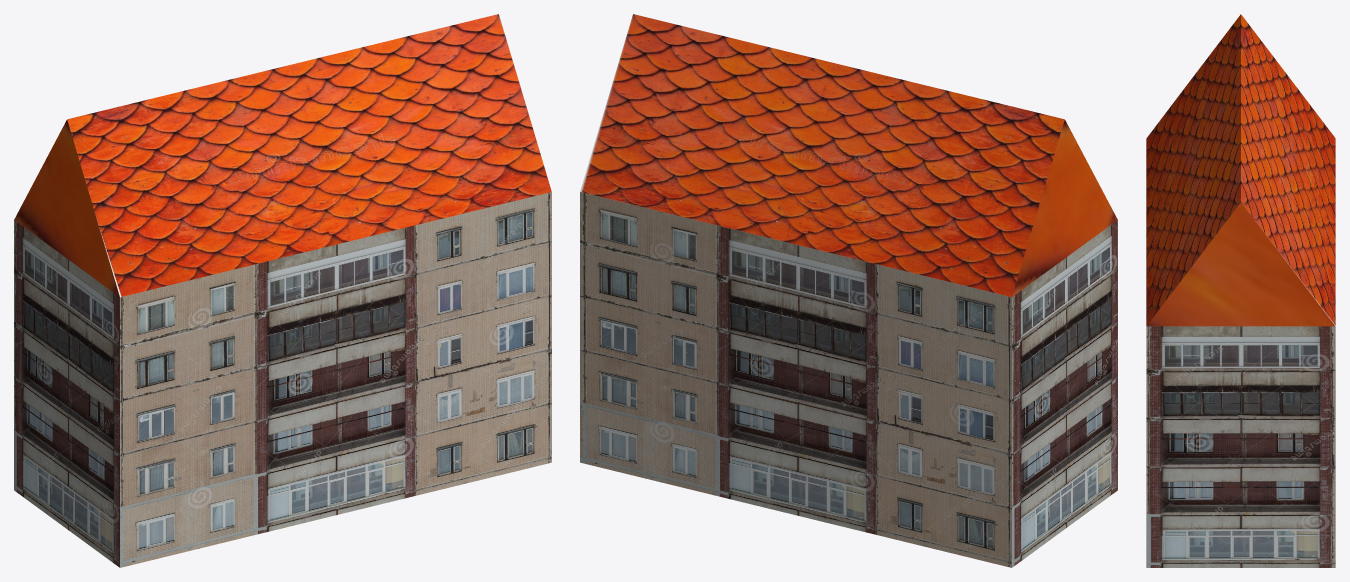
The model's file is Home.fbx.
3 views of the same model, side by side, from view 1: azimuth 30°, elevation 25°; view 2: azimuth 150°, elevation 25°; view 3: azimuth 270°, elevation 25° (orthographic). The views are drawn at different scales.
Parts seen in each view (by area): view 1: Cube; view 2: Cube; view 3: Cube.
Boxes of the visible parts, bbox=[...] form: Cube: bbox=[14, 14, 551, 567]; Cube: bbox=[580, 14, 1117, 567]; Cube: bbox=[1146, 14, 1335, 567].
Bounding box in the file's own units: 596 × 540 × 253.
